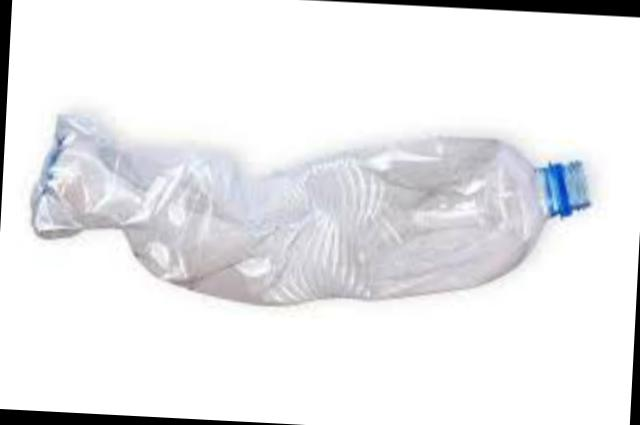plastic: (35, 118, 547, 308)
